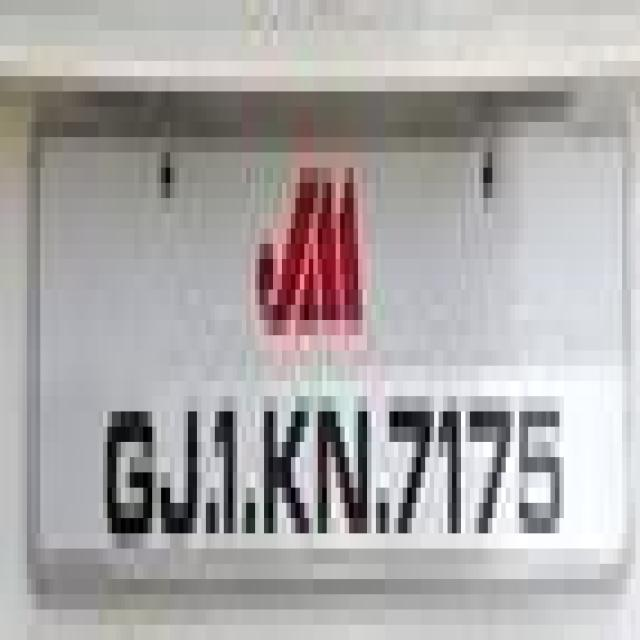license_plate: (18, 152, 640, 610)
